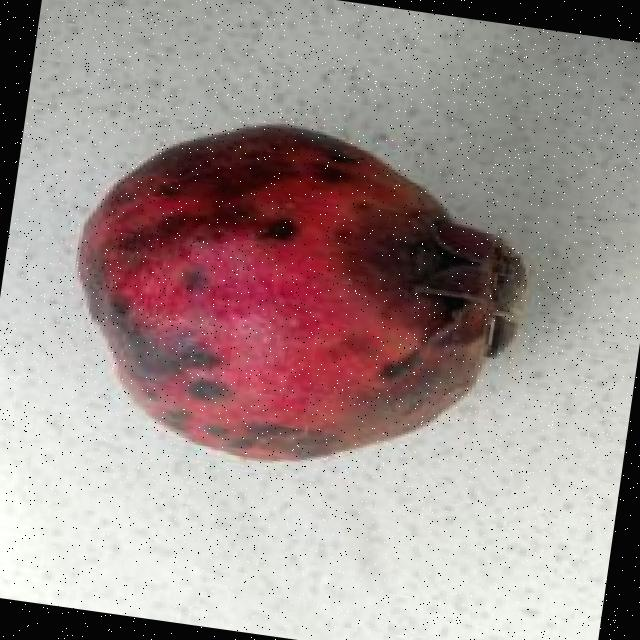overripe: (47, 94, 552, 501)
